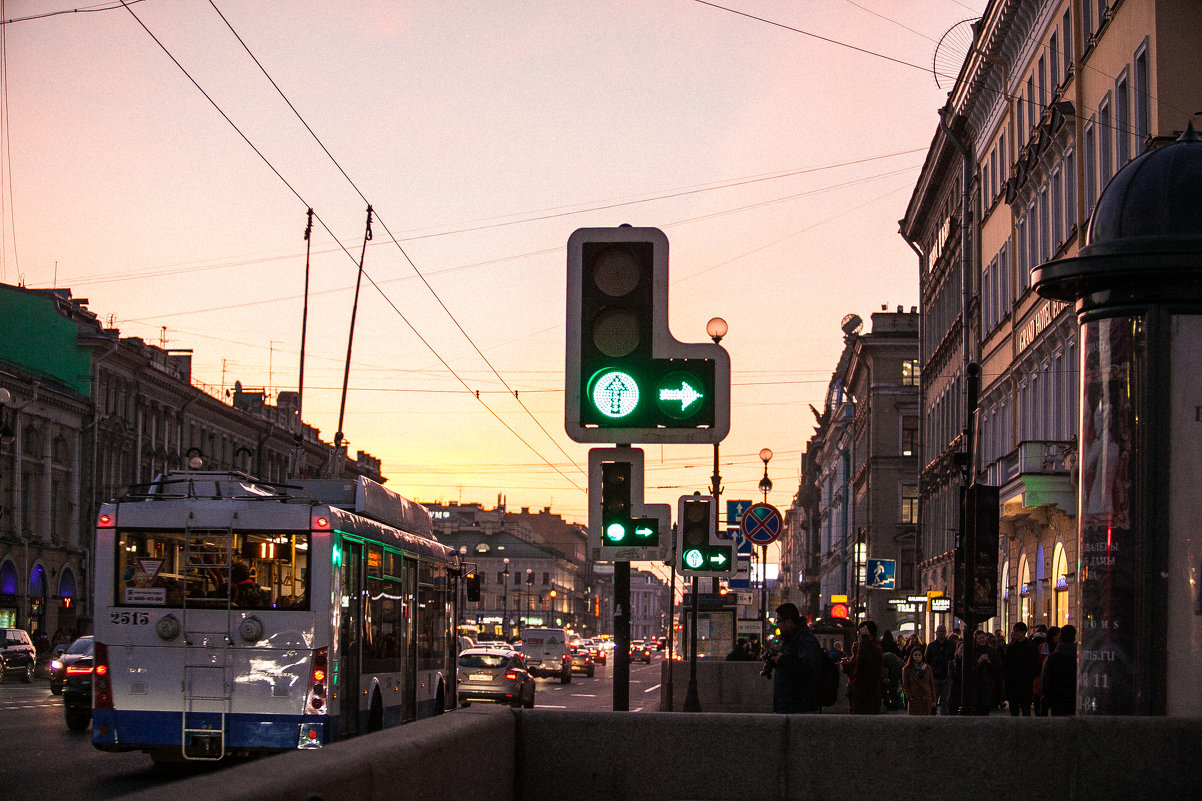tl: (568, 227, 729, 441)
